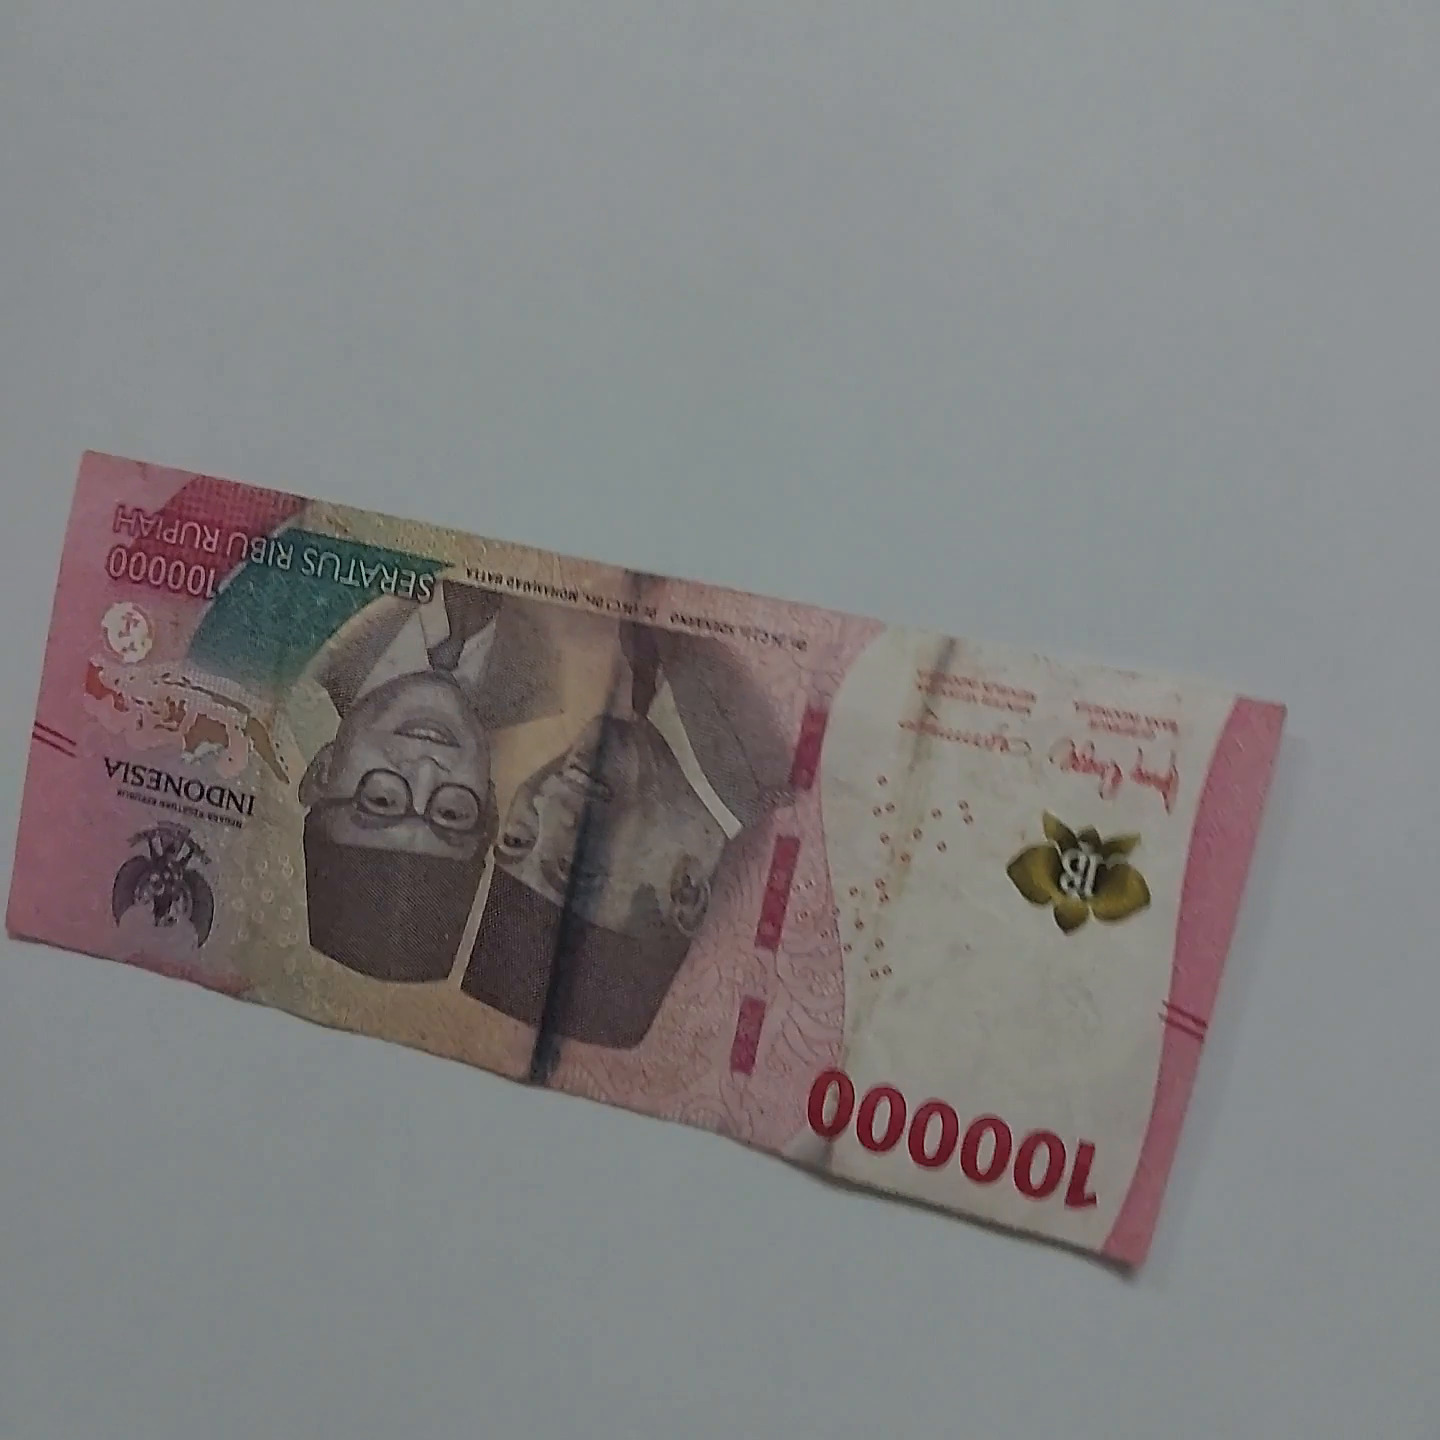100k: (0, 433, 1294, 1283)
